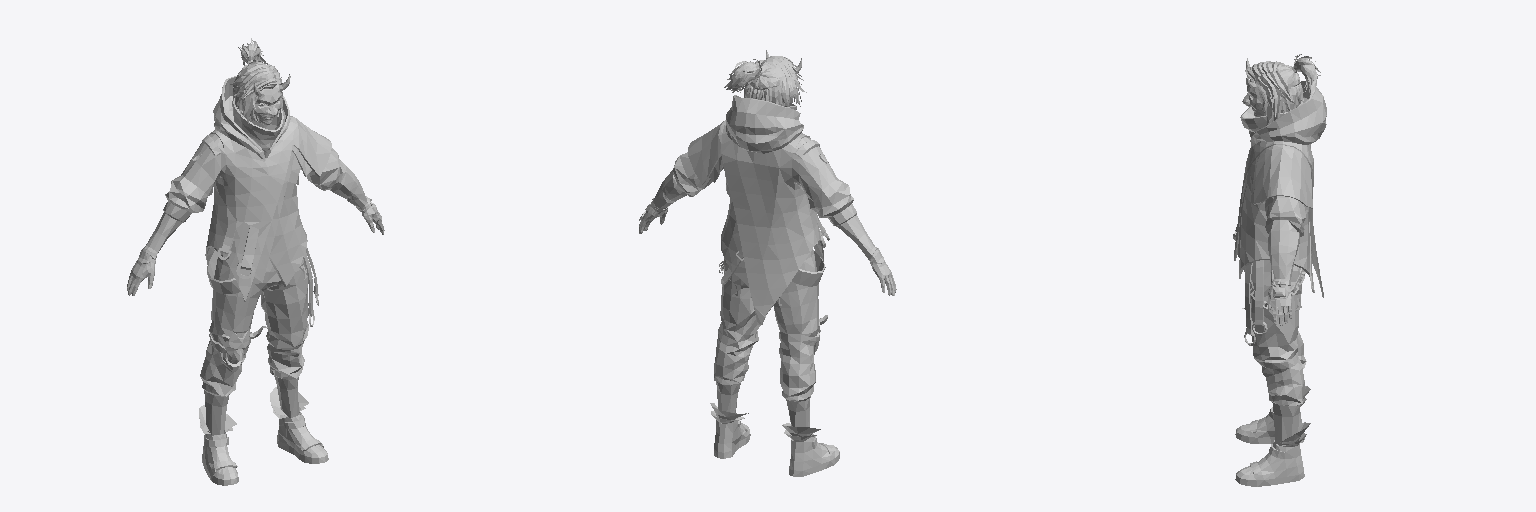
The model's file is Angel Devil Female.obj.
3 views of the same model, side by side, from view 1: azimuth 30°, elevation 25°; view 2: azimuth 150°, elevation 25°; view 3: azimuth 270°, elevation 25° (orthographic).
Visible parts, largest first — view 1: Male_Lobby_Top_Cos_Angeldevil.001, Male_Lobby_Top_Cos_Angeldevil.003, Male_Lobby_Top_Cos_Angeldevil.004, Male_Lobby_Top_Cos_Angeldevil.005, Male_Lobby_Top_Cos_Angeldevil.006; view 2: Male_Lobby_Top_Cos_Angeldevil.001, Male_Lobby_Top_Cos_Angeldevil.003, Male_Lobby_Top_Cos_Angeldevil.004, Male_Lobby_Top_Cos_Angeldevil.005; view 3: Male_Lobby_Top_Cos_Angeldevil.001, Male_Lobby_Top_Cos_Angeldevil.003, Male_Lobby_Top_Cos_Angeldevil.004, Male_Lobby_Top_Cos_Angeldevil.005.
Part boxes in pixels (x1,y1,x2,y2): Male_Lobby_Top_Cos_Angeldevil.001: (127, 76, 384, 301); Male_Lobby_Top_Cos_Angeldevil.003: (200, 248, 318, 435); Male_Lobby_Top_Cos_Angeldevil.004: (199, 387, 328, 485); Male_Lobby_Top_Cos_Angeldevil.005: (230, 38, 284, 123); Male_Lobby_Top_Cos_Angeldevil.006: (250, 74, 290, 120); Male_Lobby_Top_Cos_Angeldevil.001: (639, 95, 896, 324); Male_Lobby_Top_Cos_Angeldevil.003: (714, 249, 827, 426); Male_Lobby_Top_Cos_Angeldevil.004: (710, 403, 839, 476); Male_Lobby_Top_Cos_Angeldevil.005: (724, 56, 806, 106); Male_Lobby_Top_Cos_Angeldevil.001: (1233, 81, 1326, 325); Male_Lobby_Top_Cos_Angeldevil.003: (1242, 260, 1306, 445); Male_Lobby_Top_Cos_Angeldevil.004: (1235, 386, 1310, 486); Male_Lobby_Top_Cos_Angeldevil.005: (1245, 54, 1320, 125).
Bounding box in the file's own units: 0.6527 × 0.9993 × 0.209.